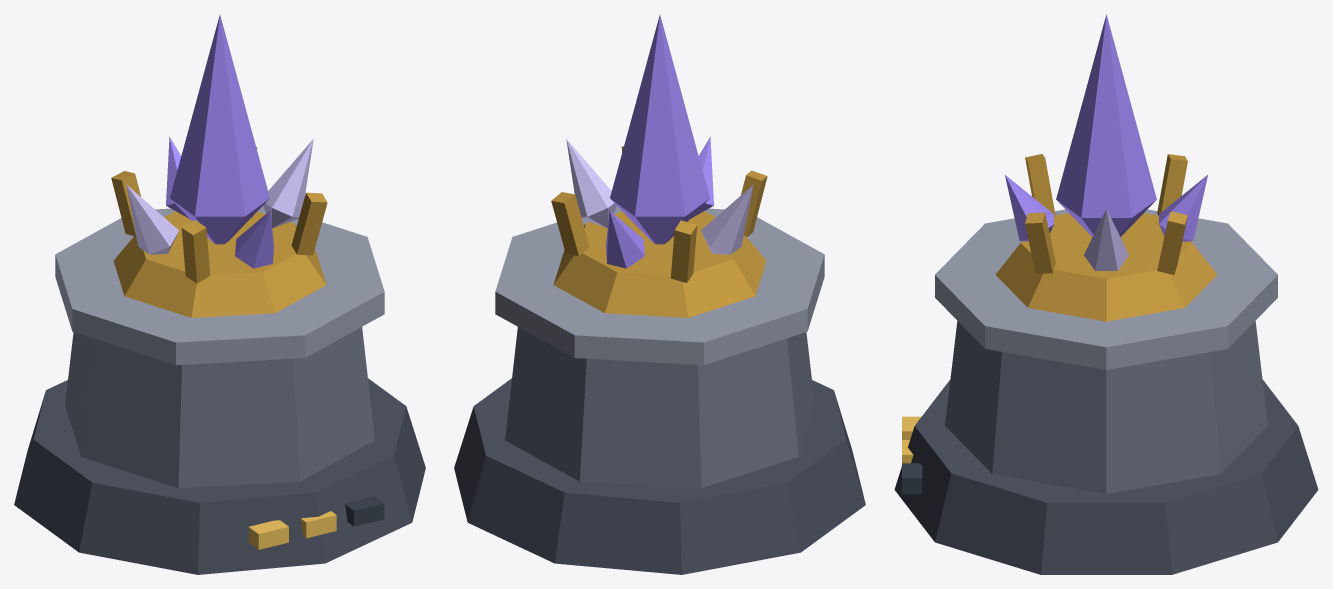
Rendered from frost-spire-1.glb.
3 views of the same model, side by side, from view 1: azimuth 30°, elevation 25°; view 2: azimuth 150°, elevation 25°; view 3: azimuth 270°, elevation 25° (orthographic).
Visible parts, largest first — view 1: frost-spire-1; view 2: frost-spire-1; view 3: frost-spire-1.
Part boxes in pixels (bbox=[...]): frost-spire-1: bbox=[14, 15, 425, 574]; frost-spire-1: bbox=[454, 15, 865, 574]; frost-spire-1: bbox=[894, 14, 1318, 574].
Bounding box in the file's own units: 0.7989 × 1.04 × 0.84.
Materials: 1 (1 with a texture image).
